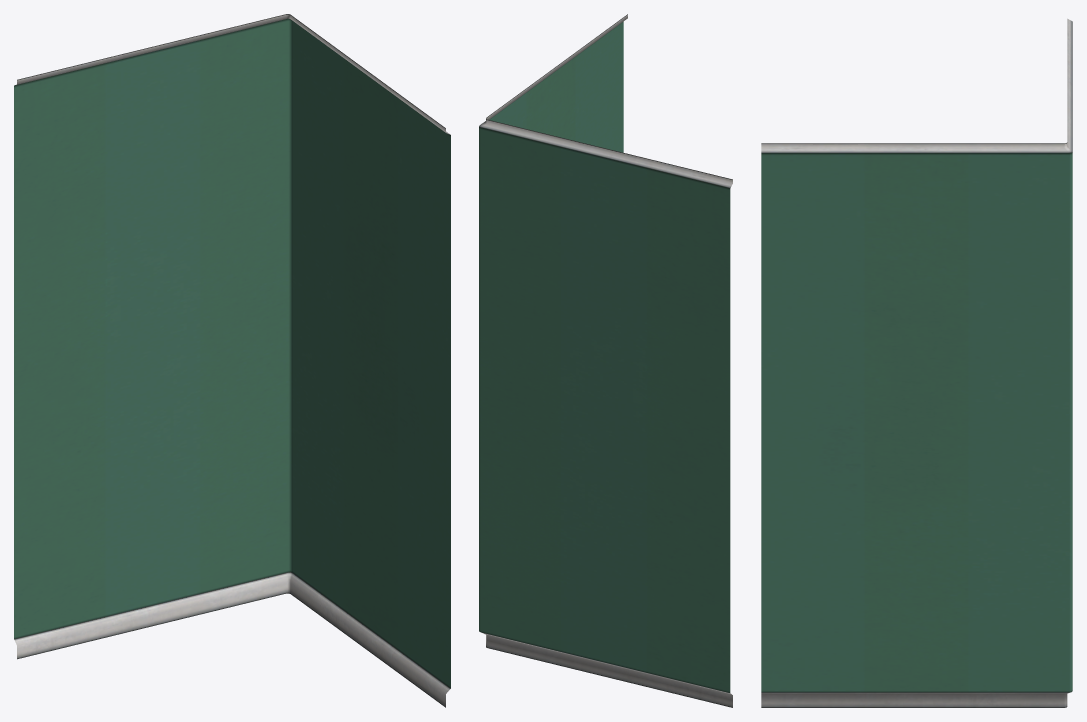
Rendered from livingroom_concave.dae.
3 renders of one model, left to right at view 1: azimuth 30°, elevation 25°; view 2: azimuth 150°, elevation 25°; view 3: azimuth 270°, elevation 25°, orthographic. The views are drawn at different scales.
Parts seen in each view (by area): view 1: waitingroom_concave; view 2: waitingroom_concave; view 3: waitingroom_concave.
Boxes of the visible parts, box(x1,y1,x2,y2) form: waitingroom_concave: box(14, 14, 450, 707); waitingroom_concave: box(479, 14, 732, 707); waitingroom_concave: box(761, 18, 1072, 707).
Bounding box in the file's own units: 200 × 400 × 200.
